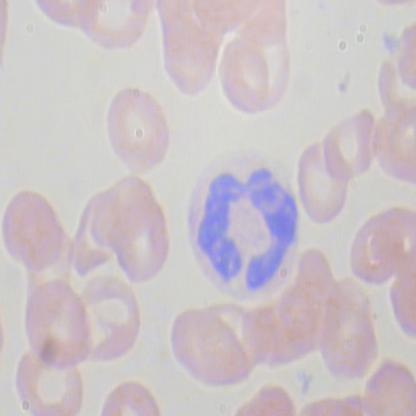Platelets: (374, 26, 402, 56)
RBC: (170, 302, 252, 398), (102, 87, 176, 177), (319, 287, 380, 385), (78, 276, 144, 366), (24, 283, 92, 368), (0, 190, 64, 276), (295, 138, 352, 228), (112, 208, 172, 288), (159, 22, 218, 102), (321, 108, 378, 188), (216, 39, 272, 114), (346, 215, 402, 289), (360, 358, 415, 415)
WBC: (183, 148, 304, 308)
